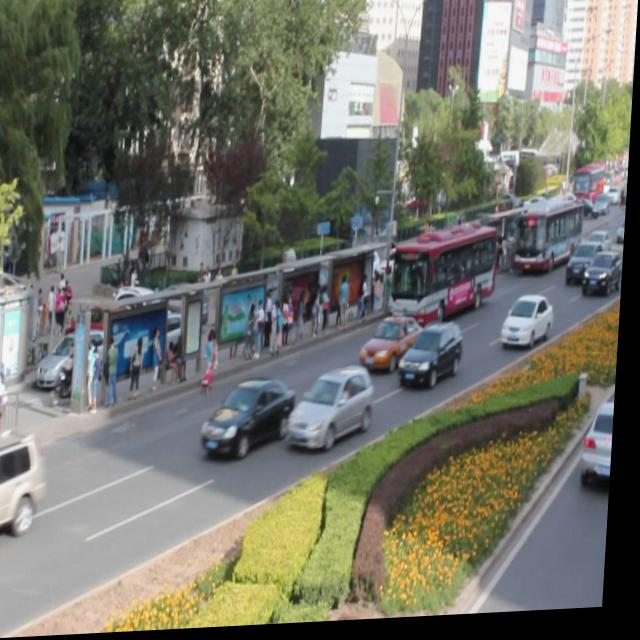car: (203, 376, 299, 462), (290, 365, 378, 455), (0, 428, 52, 540), (402, 323, 467, 389), (362, 317, 431, 374), (502, 298, 557, 351), (585, 256, 627, 303), (567, 247, 607, 291)
van: (393, 227, 499, 323), (514, 199, 584, 272)
